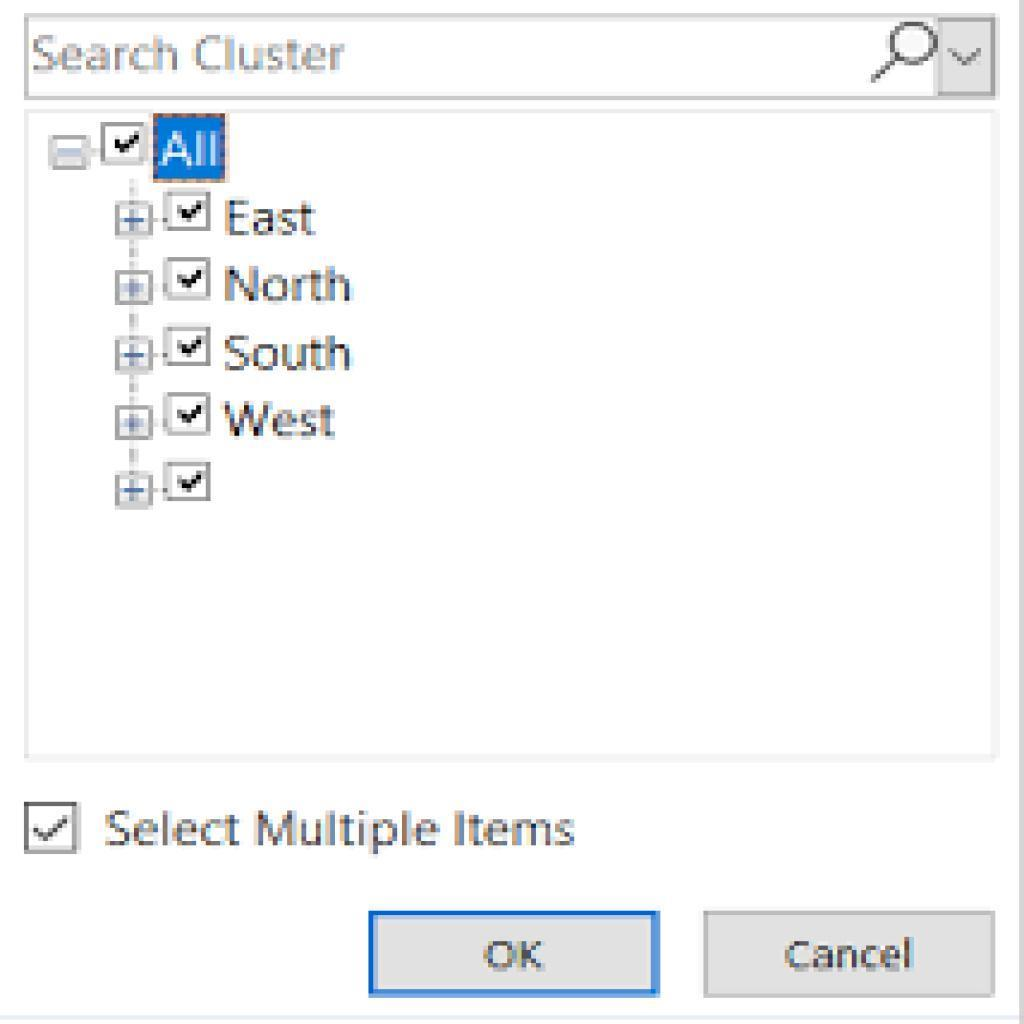button: (367, 908, 663, 1002), (705, 912, 996, 997)
checkbox: (26, 804, 83, 856), (102, 123, 153, 168), (161, 188, 210, 234), (162, 258, 213, 301), (162, 327, 210, 369), (166, 393, 213, 435), (167, 464, 212, 504)
dropdown: (26, 13, 998, 99)
